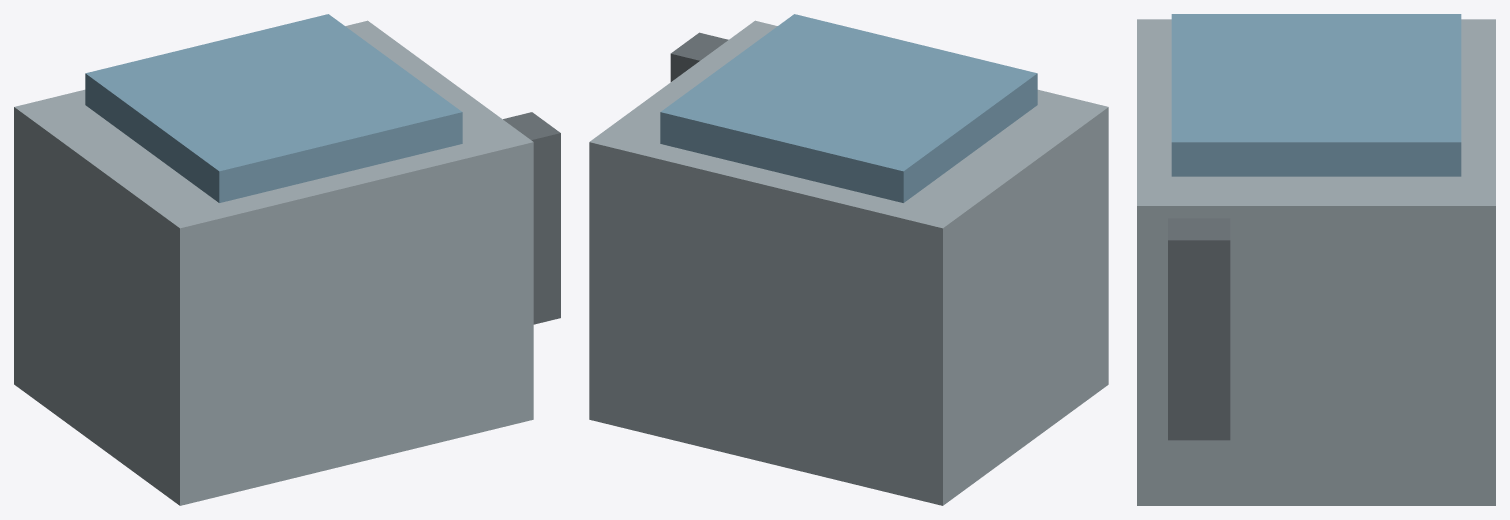
File: maintenance_machine_lod0.glb
The picture shows the model from 3 angles, left to right: view 1: azimuth 30°, elevation 25°; view 2: azimuth 150°, elevation 25°; view 3: azimuth 270°, elevation 25°; orthographic projection. The views are drawn at different scales.
Visible parts, largest first — view 1: maintenance-machine-node-0, maintenance-machine-node-1, maintenance-machine-node-2; view 2: maintenance-machine-node-0, maintenance-machine-node-1, maintenance-machine-node-2; view 3: maintenance-machine-node-0, maintenance-machine-node-1, maintenance-machine-node-2.
Boxes of the visible parts, x1,y1,x2,y2 form: maintenance-machine-node-0: [14, 20, 533, 505]; maintenance-machine-node-1: [85, 14, 462, 202]; maintenance-machine-node-2: [503, 112, 560, 324]; maintenance-machine-node-0: [589, 20, 1108, 505]; maintenance-machine-node-1: [660, 14, 1037, 202]; maintenance-machine-node-2: [670, 32, 728, 81]; maintenance-machine-node-0: [1137, 19, 1495, 505]; maintenance-machine-node-1: [1171, 14, 1461, 176]; maintenance-machine-node-2: [1168, 218, 1230, 440].
Bounding box in the file's own units: 3.58 × 2.67 × 2.6.
